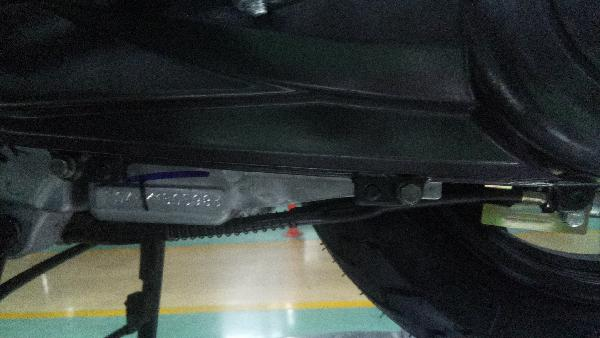box: (105, 189, 221, 210)
